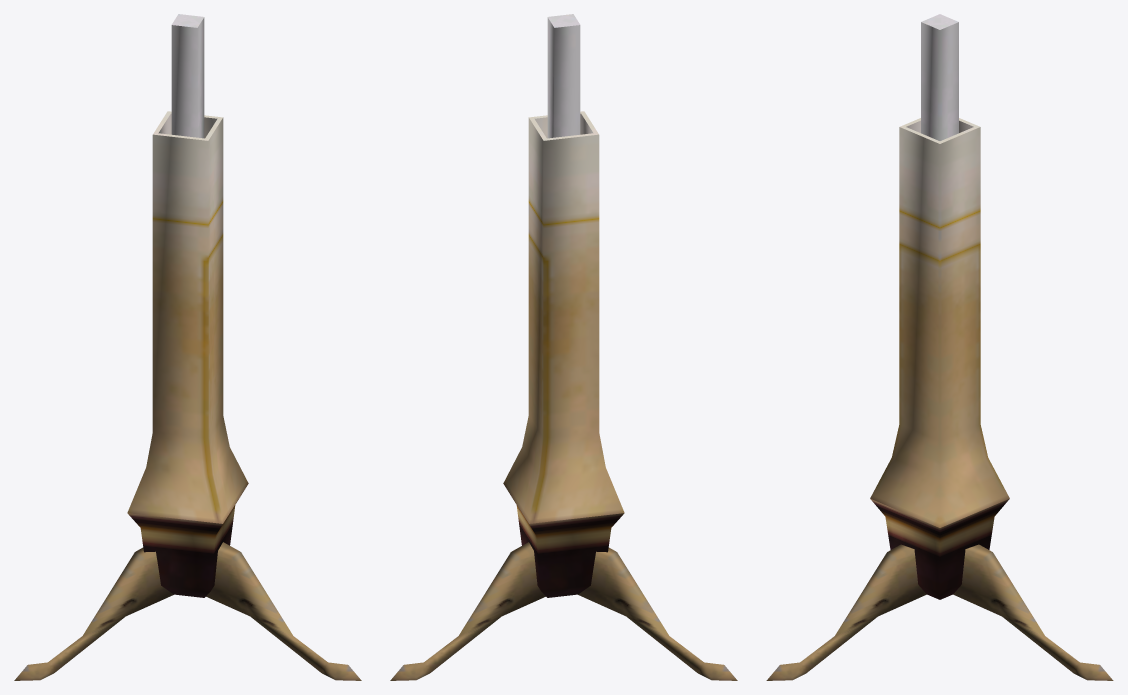
The model's file is frn_all_lamp_tbl_s2_l1.fbx.
3 views of the same model, side by side, from view 1: azimuth 30°, elevation 25°; view 2: azimuth 150°, elevation 25°; view 3: azimuth 270°, elevation 25° (orthographic).
Visible parts, largest first — view 1: mesh_node; view 2: mesh_node; view 3: mesh_node.
Part boxes in pixels (x1=…): mesh_node: x1=14, y1=14, x2=361, y2=680; mesh_node: x1=390, y1=14, x2=737, y2=680; mesh_node: x1=766, y1=14, x2=1113, y2=680.
Bounding box in the file's own units: 0.2754 × 0.6227 × 0.318.
1 material, 1 textured.
